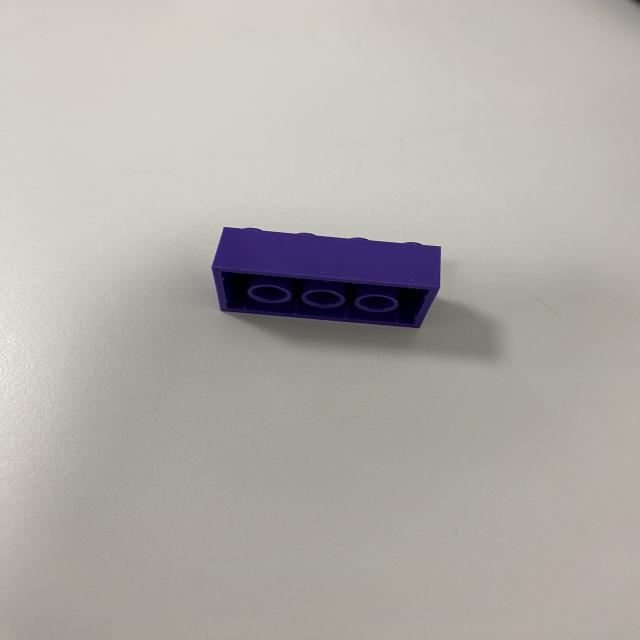C4x2x1: (214, 223, 442, 333)
